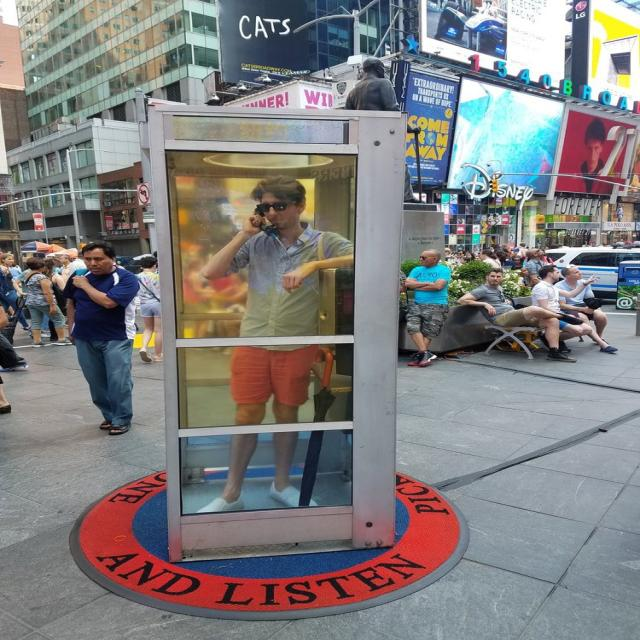body: (185, 174, 375, 527), (59, 238, 142, 437), (338, 52, 435, 208), (456, 266, 579, 364), (527, 262, 601, 354), (401, 247, 453, 367), (554, 265, 618, 354), (22, 256, 74, 348), (0, 246, 26, 415), (574, 112, 624, 196), (134, 255, 164, 363), (444, 233, 528, 271), (0, 252, 32, 332), (40, 258, 68, 342), (48, 246, 88, 278), (523, 248, 552, 288), (11, 258, 34, 300), (478, 248, 502, 270), (58, 254, 73, 284), (528, 242, 568, 250), (539, 250, 554, 267), (151, 248, 160, 274)
